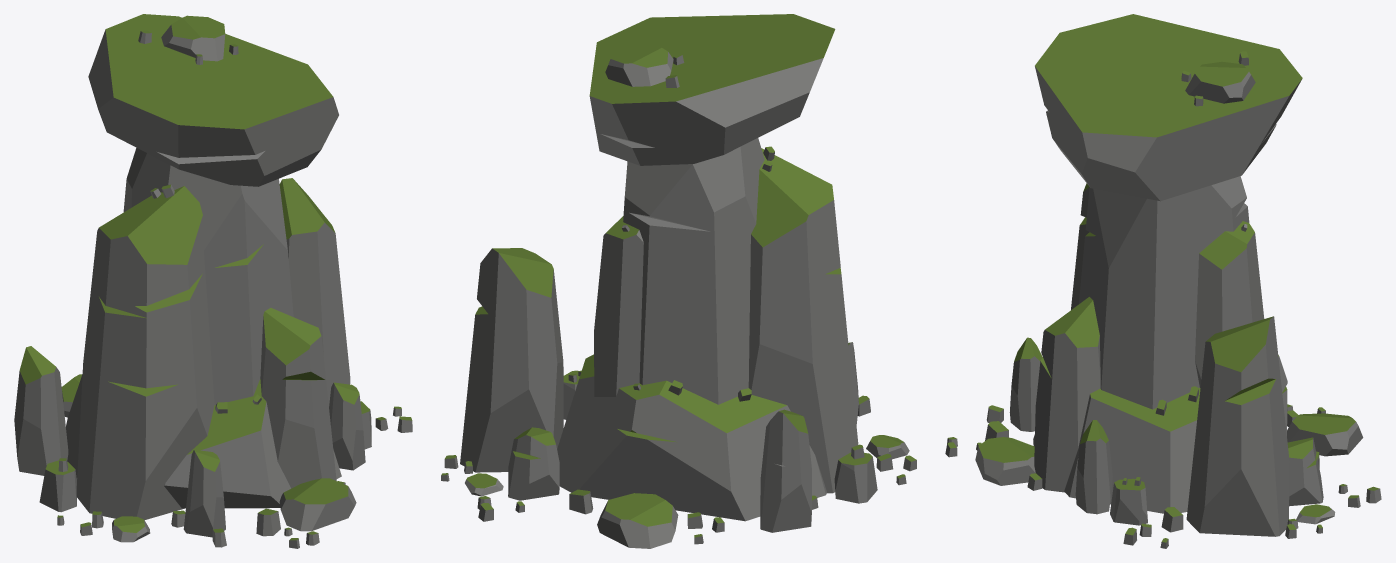
The model's file is RockStack_4.fbx.
3 renders of one model, left to right at view 1: azimuth 30°, elevation 25°; view 2: azimuth 150°, elevation 25°; view 3: azimuth 270°, elevation 25°, orthographic. The views are drawn at different scales.
Visible parts, largest first — view 1: RockStack_4; view 2: RockStack_4; view 3: RockStack_4.
Part boxes in pixels (x1,y1,x2,y2): RockStack_4: (14, 14, 412, 548); RockStack_4: (441, 14, 916, 548); RockStack_4: (945, 14, 1381, 548).
Size of the model in its own units: 447 by 470 by 467.
